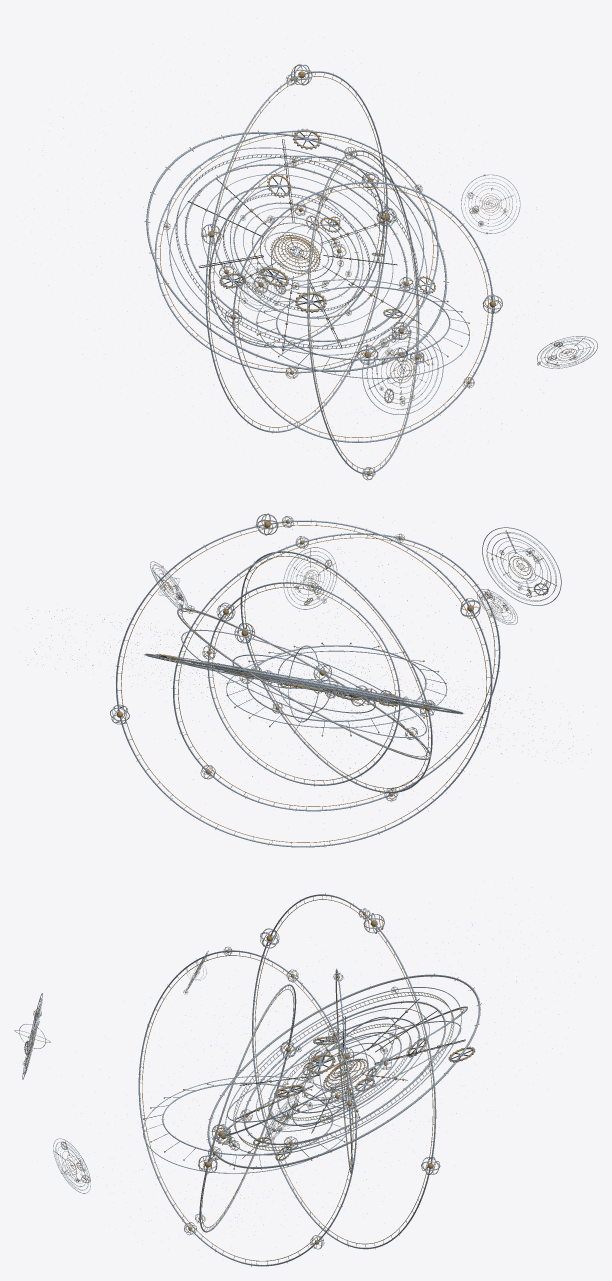
Rendered from Hintergrund_web.glb.
3 renders of one model, top to bottom at view 1: azimuth 30°, elevation 25°; view 2: azimuth 150°, elevation 25°; view 3: azimuth 270°, elevation 25°, orthographic. The views are drawn at different scales.
Visible parts, largest first — view 1: 01 HAUPTMASCHINE / Aussenring 2, SOCKELUMGEBUNG / Armillarring 0, 01 HAUPTMASCHINE / Aussenring 1, SOCKELUMGEBUNG / Armillarring 1, 01 HAUPTMASCHINE / Skalenring 7, 01 HAUPTMASCHINE / Doppelschiene 1, 01 HAUPTMASCHINE / Aussenring 0, SOCKELUMGEBUNG / Flache Skalenringe, 01 HAUPTMASCHINE / Tragwerk mit Knoten, 01 HAUPTMASCHINE / Skalenring 5, 01 HAUPTMASCHINE / Zahnkranzkern, 01 HAUPTMASCHINE / Wanderringnetz 1 (+4 smaller); view 2: 01 HAUPTMASCHINE / Aussenring 2, SOCKELUMGEBUNG / Armillarring 1, SOCKELUMGEBUNG / Armillarring 0, 01 HAUPTMASCHINE / Aussenring 0, SOCKELUMGEBUNG / Flache Skalenringe, 01 HAUPTMASCHINE / Aussenring 1, 01 HAUPTMASCHINE / Skalenring 7, 01 HAUPTMASCHINE / Wanderringnetz 1, 01 HAUPTMASCHINE / Doppelschiene 1, 01 HAUPTMASCHINE / Skalenring 5, 01 HAUPTMASCHINE / Wanderringnetz 0; view 3: SOCKELUMGEBUNG / Armillarring 1, 01 HAUPTMASCHINE / Aussenring 2, 01 HAUPTMASCHINE / Skalenring 7, 01 HAUPTMASCHINE / Doppelschiene 1, SOCKELUMGEBUNG / Flache Skalenringe, SOCKELUMGEBUNG / Armillarring 0, 01 HAUPTMASCHINE / Tragwerk mit Knoten, 01 HAUPTMASCHINE / Skalenring 5, 01 HAUPTMASCHINE / Aussenring 1, 01 HAUPTMASCHINE / Doppelschiene 0, 01 HAUPTMASCHINE / Skalenring 6, 01 HAUPTMASCHINE / Skalenring 3 (+4 smaller).
Part boxes in pixels (<box>): 01 HAUPTMASCHINE / Aussenring 2: <box>205,71,387,433</box>; SOCKELUMGEBUNG / Armillarring 0: <box>233,181,493,442</box>; 01 HAUPTMASCHINE / Aussenring 1: <box>154,129,439,373</box>; SOCKELUMGEBUNG / Armillarring 1: <box>307,150,419,474</box>; 01 HAUPTMASCHINE / Skalenring 7: <box>144,130,448,373</box>; 01 HAUPTMASCHINE / Doppelschiene 1: <box>175,154,418,349</box>; 01 HAUPTMASCHINE / Aussenring 0: <box>209,156,384,347</box>; SOCKELUMGEBUNG / Flache Skalenringe: <box>256,279,469,378</box>; 01 HAUPTMASCHINE / Tragwerk mit Knoten: <box>187,139,421,353</box>; 01 HAUPTMASCHINE / Skalenring 5: <box>184,163,407,342</box>; 01 HAUPTMASCHINE / Zahnkranzkern: <box>270,234,320,274</box>; 01 HAUPTMASCHINE / Wanderringnetz 1: <box>169,155,424,348</box>; 01 HAUPTMASCHINE / Aussenring 2: <box>116,519,493,847</box>; SOCKELUMGEBUNG / Armillarring 1: <box>171,533,500,811</box>; SOCKELUMGEBUNG / Armillarring 0: <box>240,551,432,793</box>; 01 HAUPTMASCHINE / Aussenring 0: <box>207,581,400,786</box>; SOCKELUMGEBUNG / Flache Skalenringe: <box>226,642,447,736</box>; 01 HAUPTMASCHINE / Aussenring 1: <box>177,608,431,759</box>; 01 HAUPTMASCHINE / Skalenring 7: <box>144,653,464,714</box>; 01 HAUPTMASCHINE / Wanderringnetz 1: <box>180,629,426,738</box>; 01 HAUPTMASCHINE / Doppelschiene 1: <box>176,657,432,709</box>; 01 HAUPTMASCHINE / Skalenring 5: <box>185,663,421,707</box>; 01 HAUPTMASCHINE / Wanderringnetz 0: <box>232,654,375,713</box>; SOCKELUMGEBUNG / Armillarring 1: <box>138,949,356,1266</box>; 01 HAUPTMASCHINE / Aussenring 2: <box>252,893,436,1249</box>; 01 HAUPTMASCHINE / Skalenring 7: <box>206,973,481,1169</box>; 01 HAUPTMASCHINE / Doppelschiene 1: <box>233,992,454,1150</box>; SOCKELUMGEBUNG / Flache Skalenringe: <box>143,1076,352,1173</box>; SOCKELUMGEBUNG / Armillarring 0: <box>199,983,296,1232</box>; 01 HAUPTMASCHINE / Tragwerk mit Knoten: <box>235,998,465,1158</box>; 01 HAUPTMASCHINE / Skalenring 5: <box>242,1000,447,1145</box>; 01 HAUPTMASCHINE / Aussenring 1: <box>220,1006,467,1136</box>; 01 HAUPTMASCHINE / Doppelschiene 0: <box>277,1023,411,1120</box>; 01 HAUPTMASCHINE / Skalenring 6: <box>225,987,461,1155</box>; 01 HAUPTMASCHINE / Skalenring 3: <box>268,1017,420,1125</box>.
Size of the model in its own units: 199 by 132 by 206.
